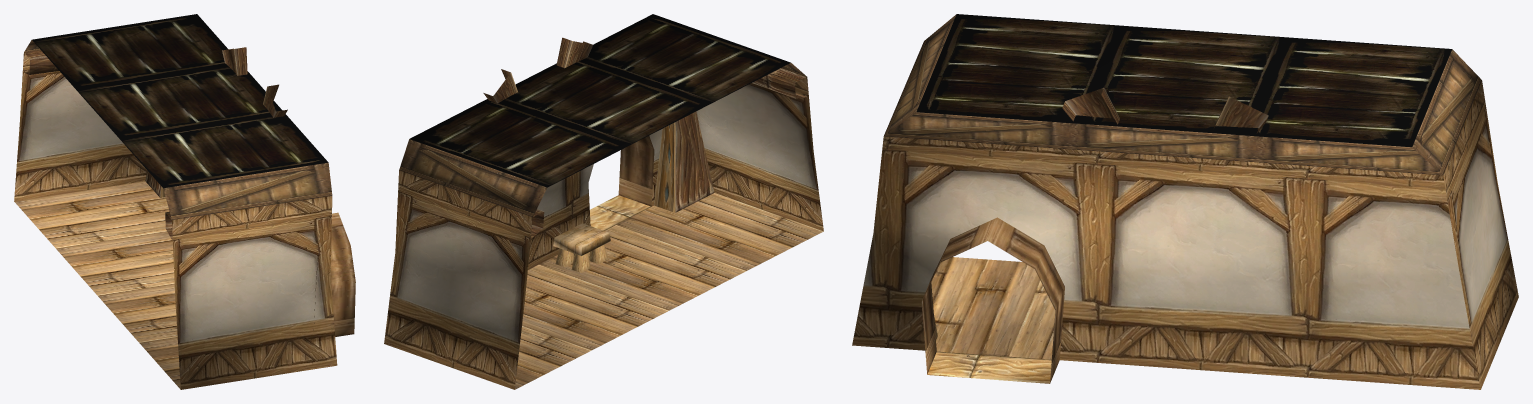
File: stormwind_200.fbx
3 views of the same model, side by side, from view 1: azimuth 30°, elevation 25°; view 2: azimuth 150°, elevation 25°; view 3: azimuth 270°, elevation 25° (orthographic). The views are drawn at different scales.
Parts seen in each view (by area): view 1: stormwind_200_48, stormwind_200_50, stormwind_200_51, stormwind_200_56, stormwind_200_49, stormwind_200_53; view 2: stormwind_200_48, stormwind_200_50, stormwind_200_51, stormwind_200_53, stormwind_200_56, stormwind_200_49, stormwind_200_54; view 3: stormwind_200_48, stormwind_200_50, stormwind_200_56, stormwind_200_51, stormwind_200_53, stormwind_200_49.
Boxes of the visible parts, bbox=[...] form: stormwind_200_48: bbox=[14, 53, 337, 389]; stormwind_200_50: bbox=[32, 14, 328, 188]; stormwind_200_51: bbox=[14, 181, 180, 389]; stormwind_200_56: bbox=[24, 40, 332, 219]; stormwind_200_49: bbox=[330, 212, 355, 336]; stormwind_200_53: bbox=[23, 47, 321, 343]; stormwind_200_48: bbox=[384, 68, 823, 389]; stormwind_200_50: bbox=[410, 14, 790, 187]; stormwind_200_51: bbox=[514, 193, 823, 389]; stormwind_200_53: bbox=[483, 37, 806, 238]; stormwind_200_56: bbox=[399, 63, 806, 216]; stormwind_200_49: bbox=[618, 136, 654, 206]; stormwind_200_54: bbox=[553, 223, 610, 272]; stormwind_200_48: bbox=[852, 81, 1518, 389]; stormwind_200_50: bbox=[916, 14, 1451, 147]; stormwind_200_56: bbox=[884, 14, 1481, 175]; stormwind_200_51: bbox=[931, 257, 1055, 359]; stormwind_200_53: bbox=[927, 87, 1268, 383]; stormwind_200_49: bbox=[921, 217, 1064, 383].
Bounding box in the file's own units: 7.66 × 7.09 × 15.65.
